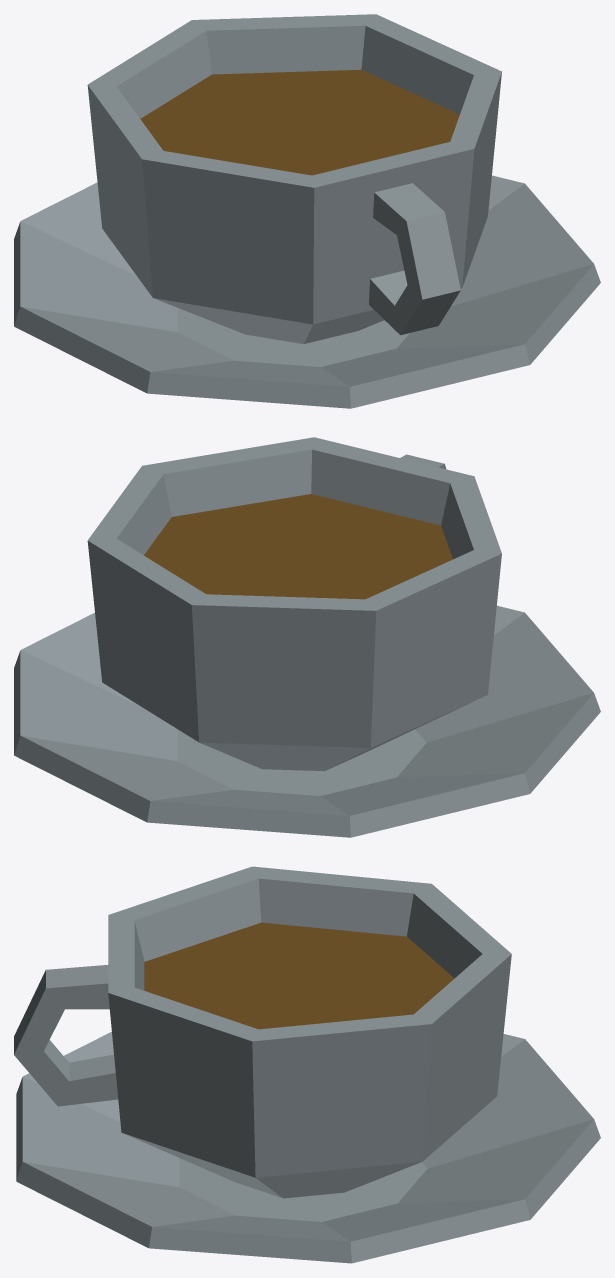
File: TeaCupFull.glb
The picture shows the model from 3 angles, top to bottom: view 1: azimuth 30°, elevation 25°; view 2: azimuth 150°, elevation 25°; view 3: azimuth 270°, elevation 25°; orthographic projection.
Visible parts, largest first — view 1: TeaCupFull; view 2: TeaCupFull; view 3: TeaCupFull.
Part boxes in pixels (left/top/right/bottom): TeaCupFull: left=14, top=14, right=600, bottom=408; TeaCupFull: left=14, top=437, right=600, bottom=837; TeaCupFull: left=14, top=866, right=600, bottom=1263.
Size of the model in its own units: 0.173 by 0.0753 by 0.171.
